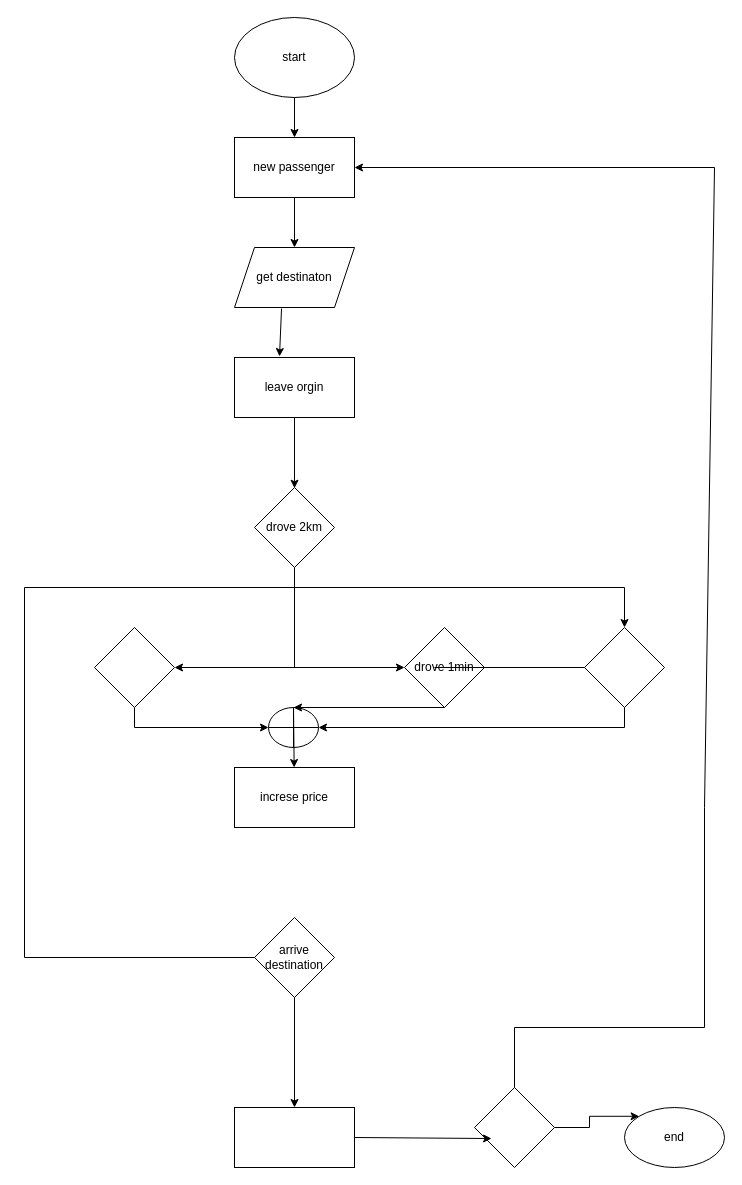
Some shapes in this 742 by 1185 pixel diagram are drawn without their labels. Here are the shapes that lost their labels. From the top down, the centre of each, then its label:
At [134,667]: "drove 200m".
At [624,667]: "extra expense".
At [294,1137]: "passenger".
At [514,1127]: "finish shift".
